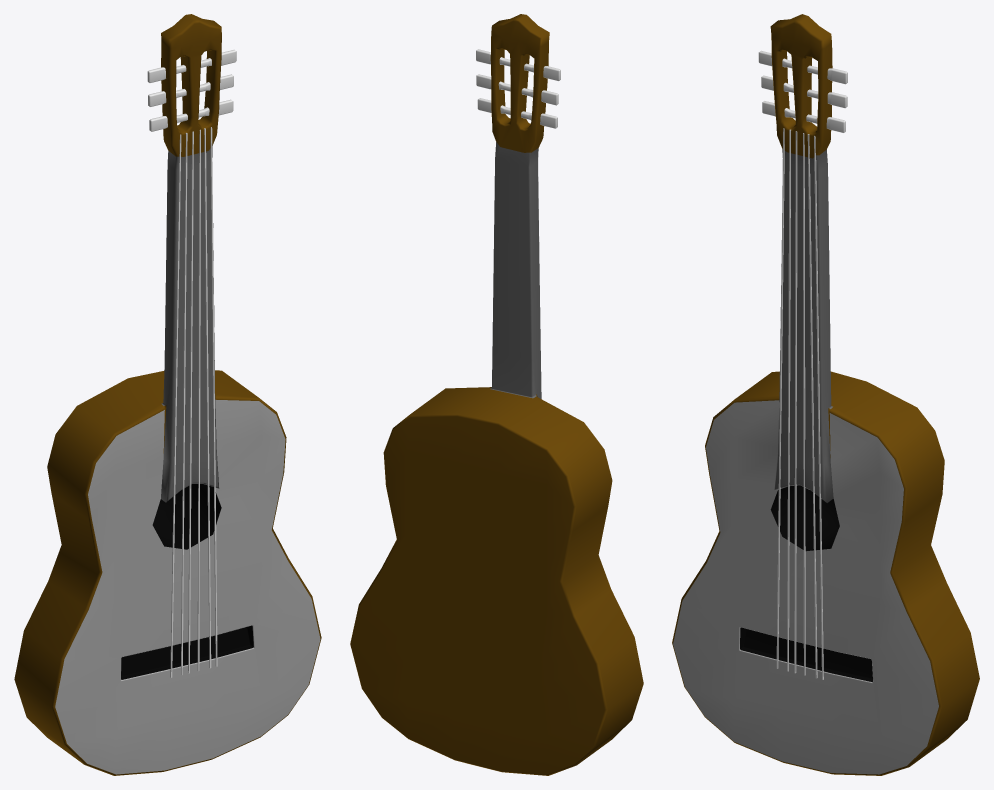
The model's file is M_Guitar_5.fbx.
3 views of the same model, side by side, from view 1: azimuth 30°, elevation 25°; view 2: azimuth 150°, elevation 25°; view 3: azimuth 330°, elevation 25° (orthographic). The views are drawn at different scales.
Visible parts, largest first — view 1: pCube24; view 2: pCube24; view 3: pCube24.
Boxes of the visible parts, x1,y1,x2,y2 form: pCube24: (14,14,321,775); pCube24: (350,14,643,775); pCube24: (672,14,979,775).
Bounding box in the file's own units: 3.91 × 10.44 × 1.24.
